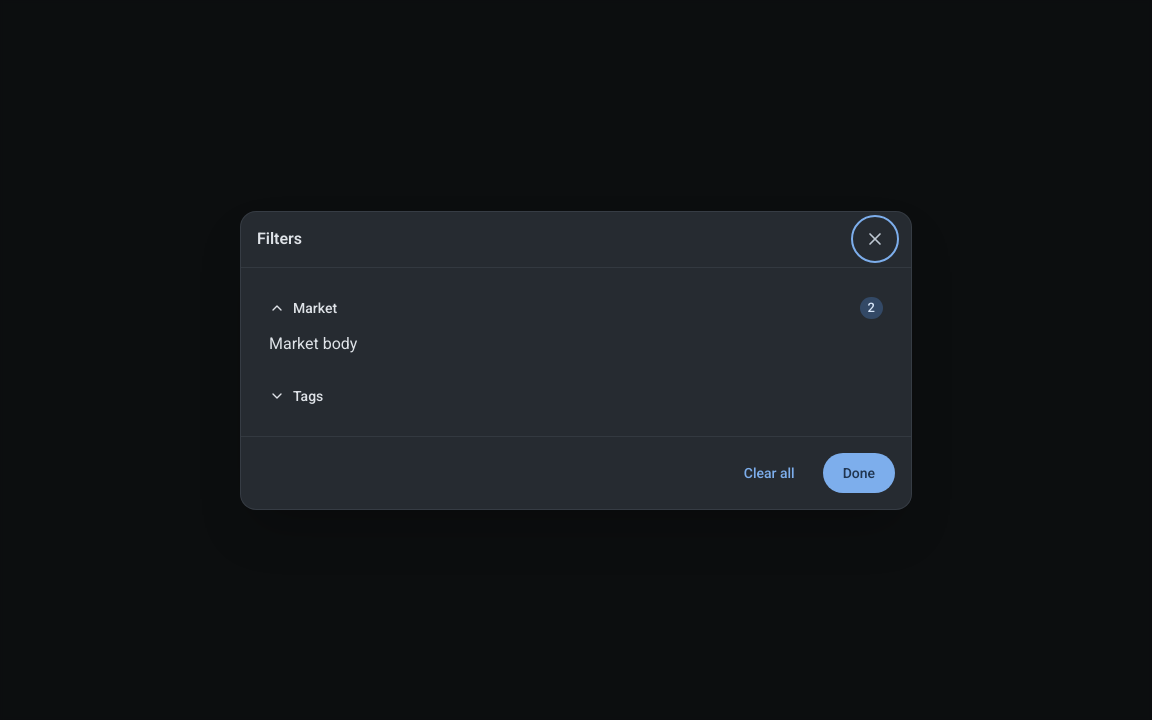
Test: FilterSheet › collapses a section when its header is clicked
Click the button "Market 2": (315, 308) [261, 288, 891, 328]
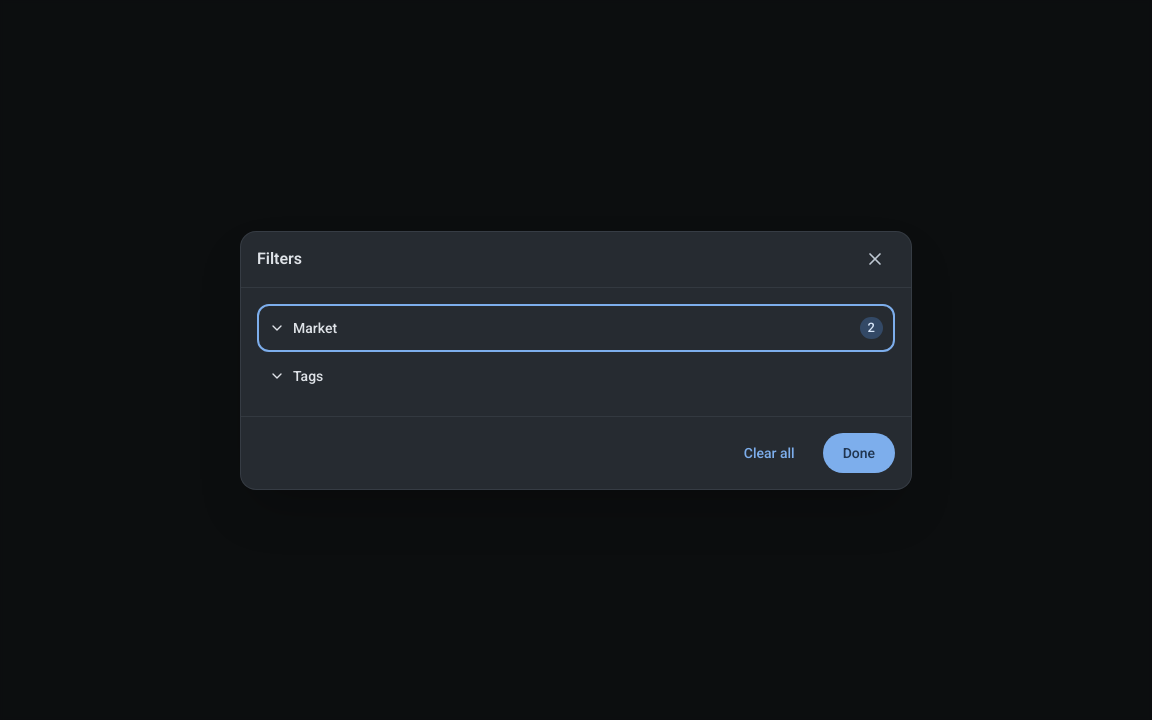
expect the text "Market body" is gone: met
